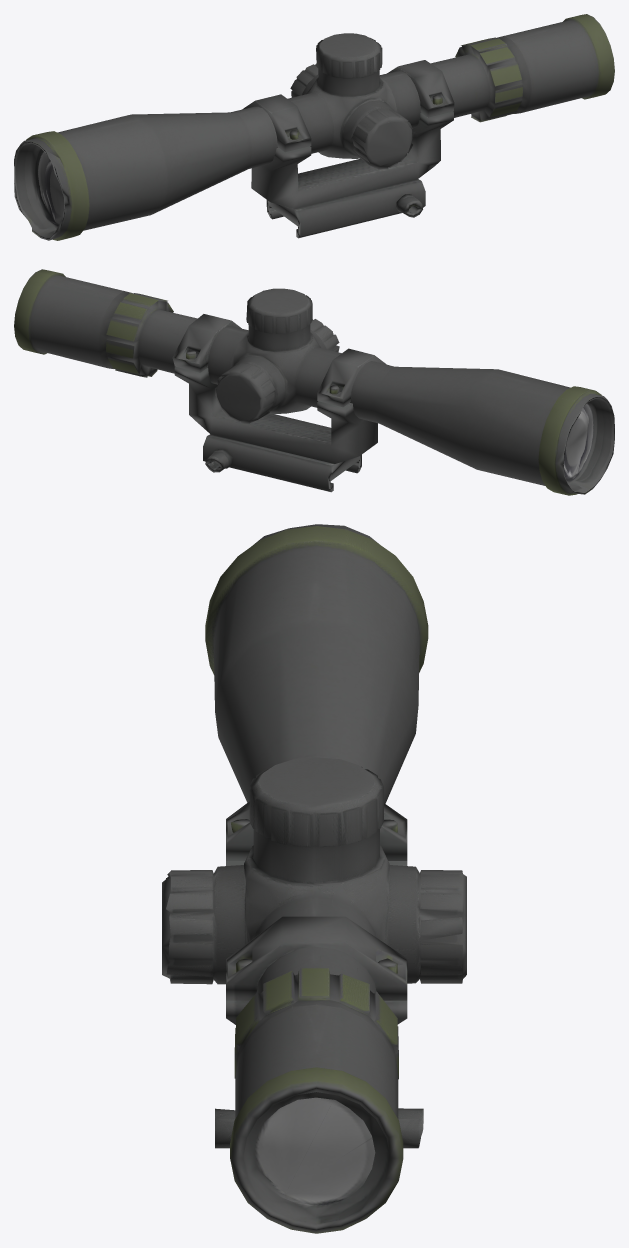
Rendered from sight_sniper_12x.glb.
3 renders of one model, top to bottom at view 1: azimuth 30°, elevation 25°; view 2: azimuth 150°, elevation 25°; view 3: azimuth 270°, elevation 25°, orthographic. The views are drawn at different scales.
Bounding box in the file's own units: 0.957 × 0.2734 × 0.2275.
Materials: 1 (1 with a texture image).
